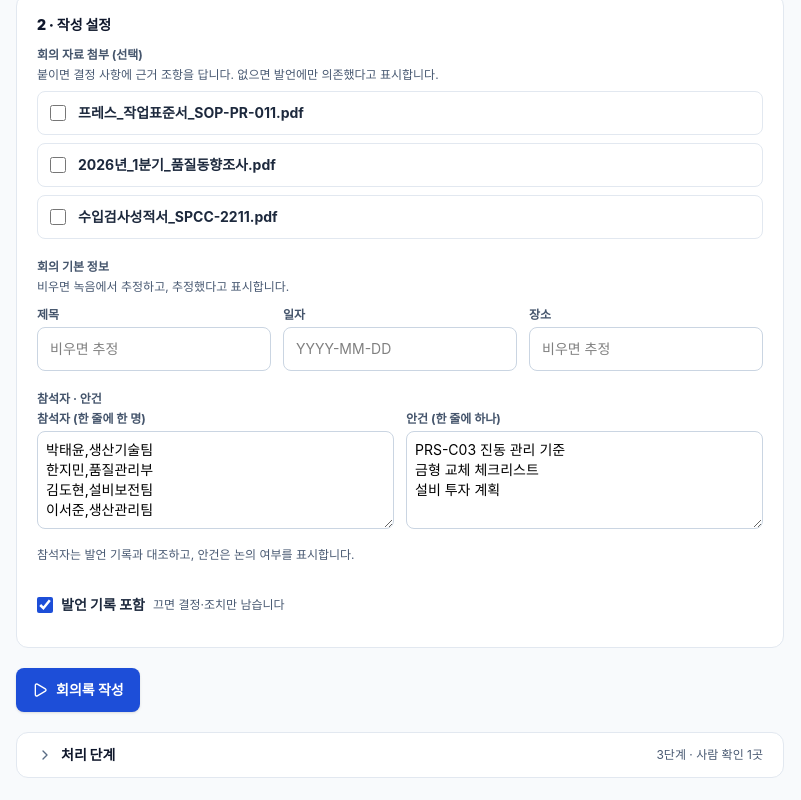
Test: MeetingPage › 회의 자료·참석자·안건 › 자료를 붙이면 결정에 근거가 달리고, 안 붙이면 없다고 말한다
(page scrolled)
Click the button "회의록 작성" at {"x": 78, "y": 690}, box [16,668,140,712]
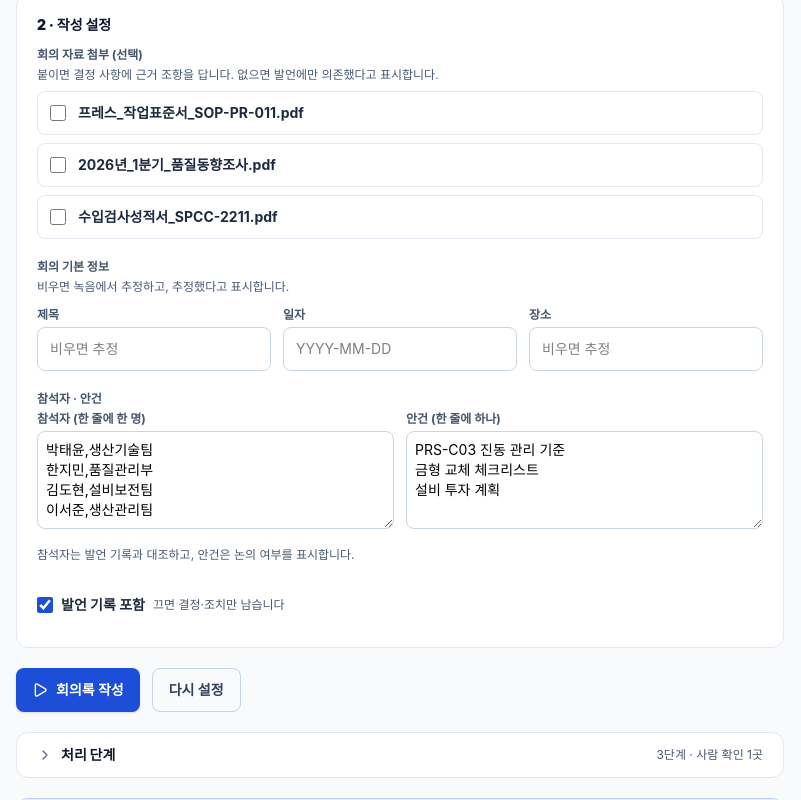
Click the button "다시 설정" at {"x": 196, "y": 690}, box [152,668,240,712]
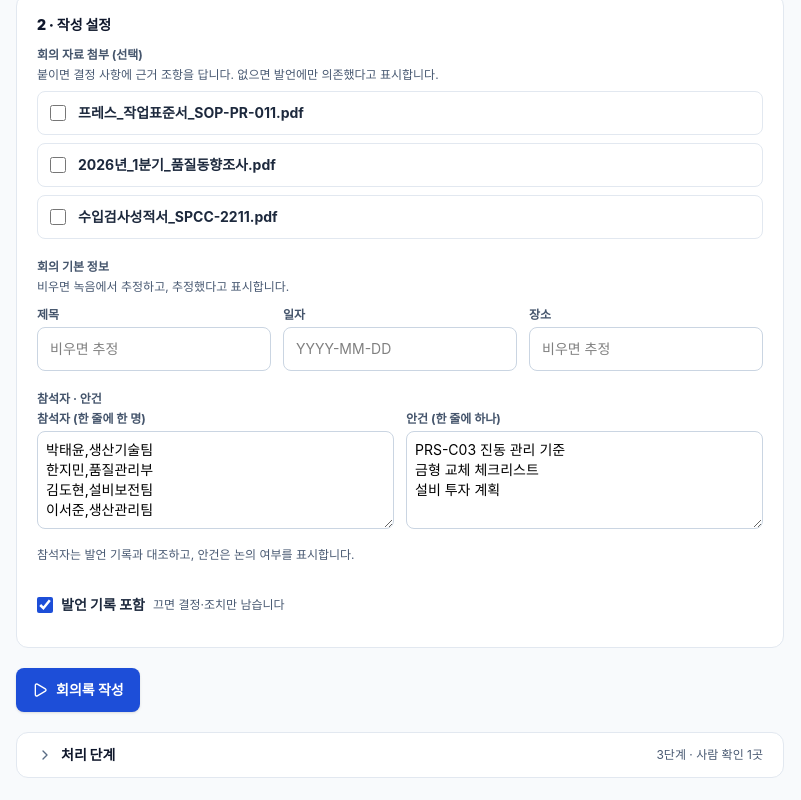
Click the checkbox labelled "프레스_작업표준서_SOP-PR-011.pdf" at {"x": 58, "y": 113}, box [50,105,66,121]
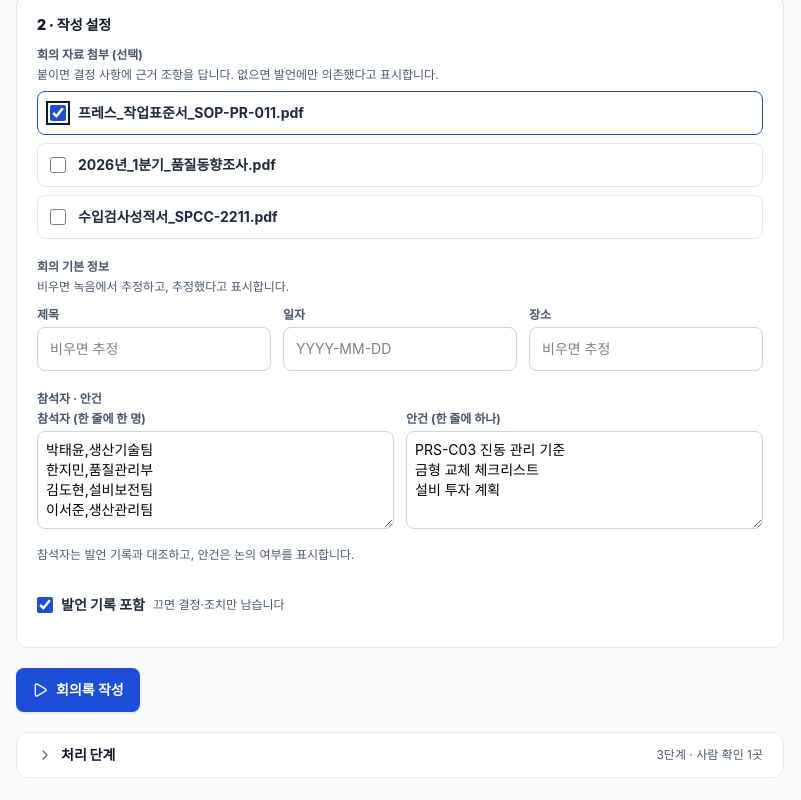
Click the button "회의록 작성" at {"x": 78, "y": 690}, box [16,668,140,712]
(page scrolled)
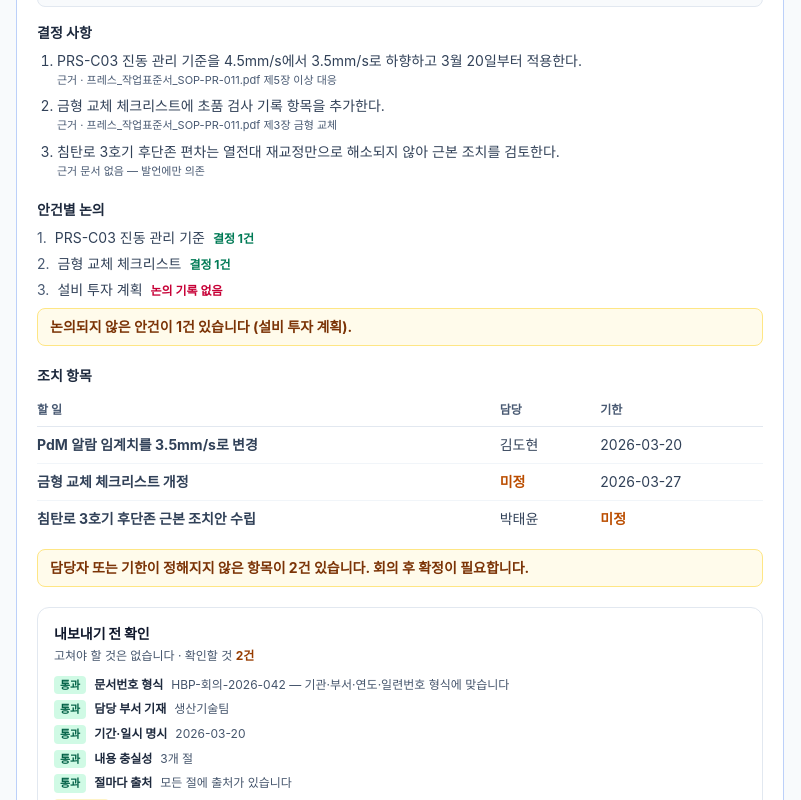
Expected: the element "공정회의" shows "근거 · 프레스_작업표준서_SOP-PR-011.pdf 제5장 이상 대응", [57,72,337,86]
